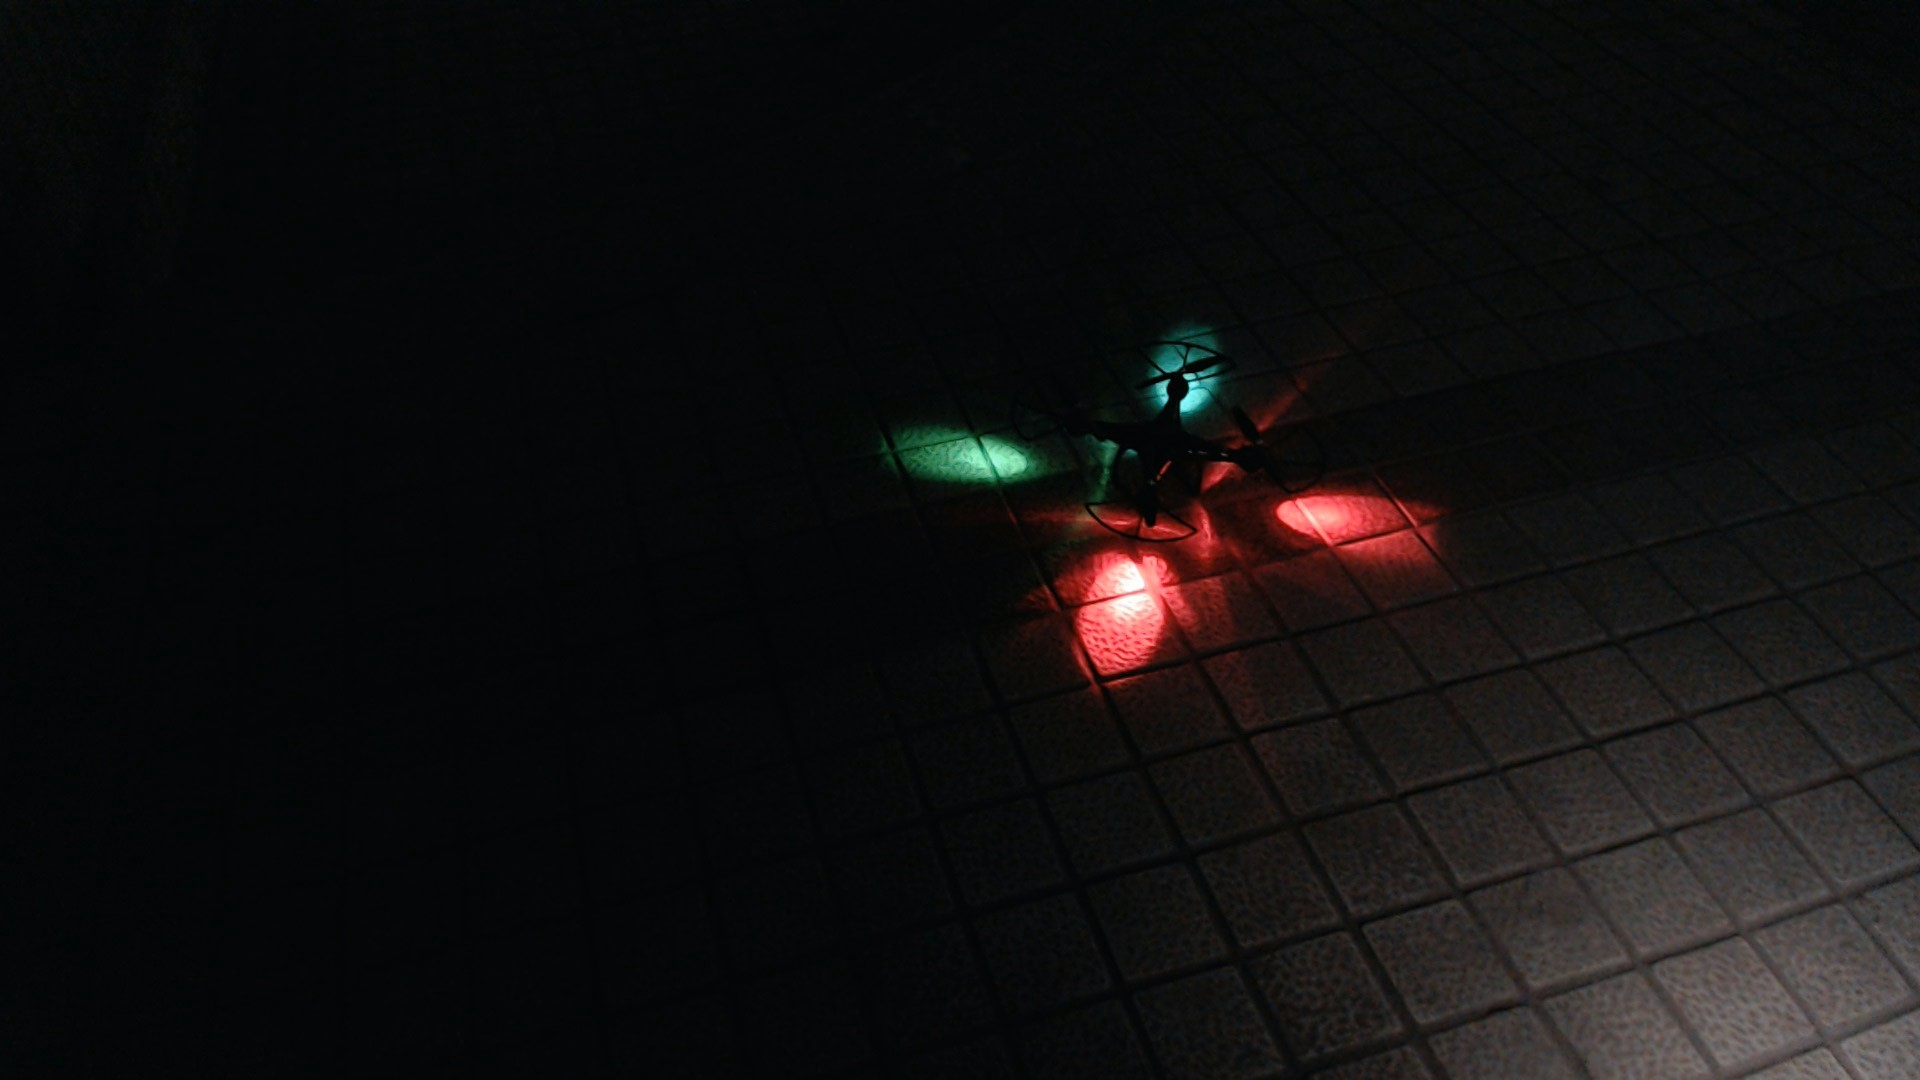test_drone: (997, 330, 1329, 549)
